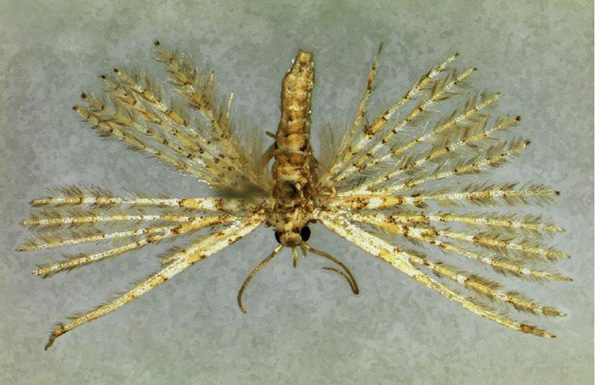Alucitidae: (14, 28, 576, 353)
moth: (16, 30, 578, 355)
